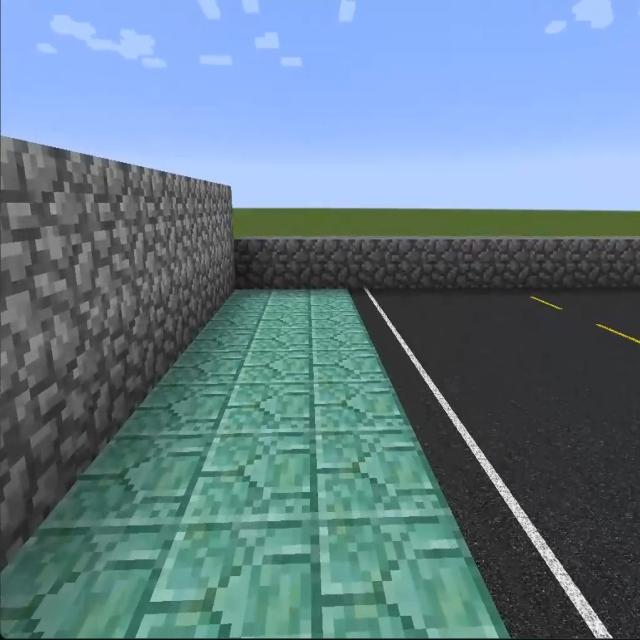road: (349, 287, 639, 639)
sidewalk: (0, 287, 511, 639)
